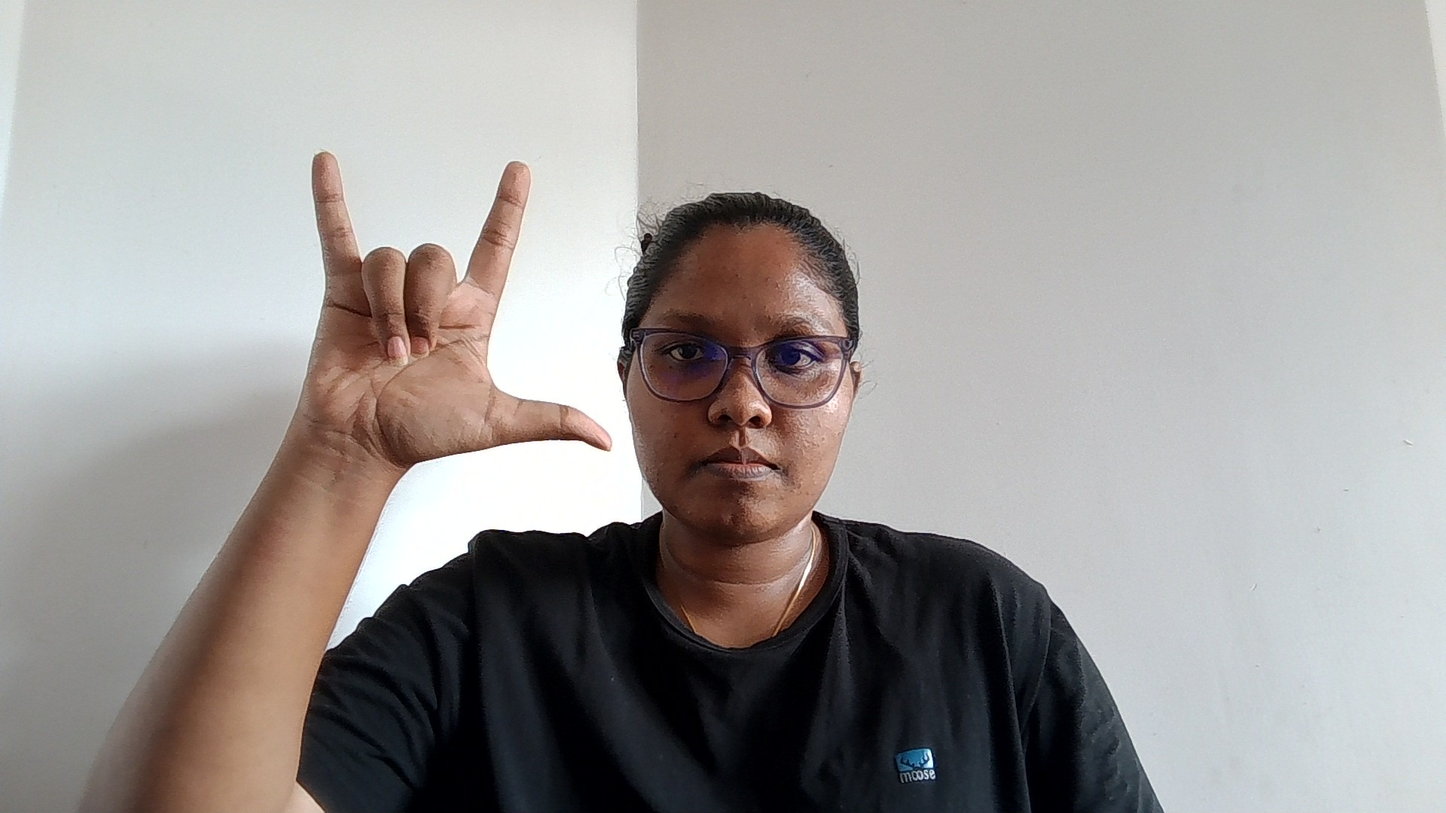I Love You: (213, 110, 623, 581)
